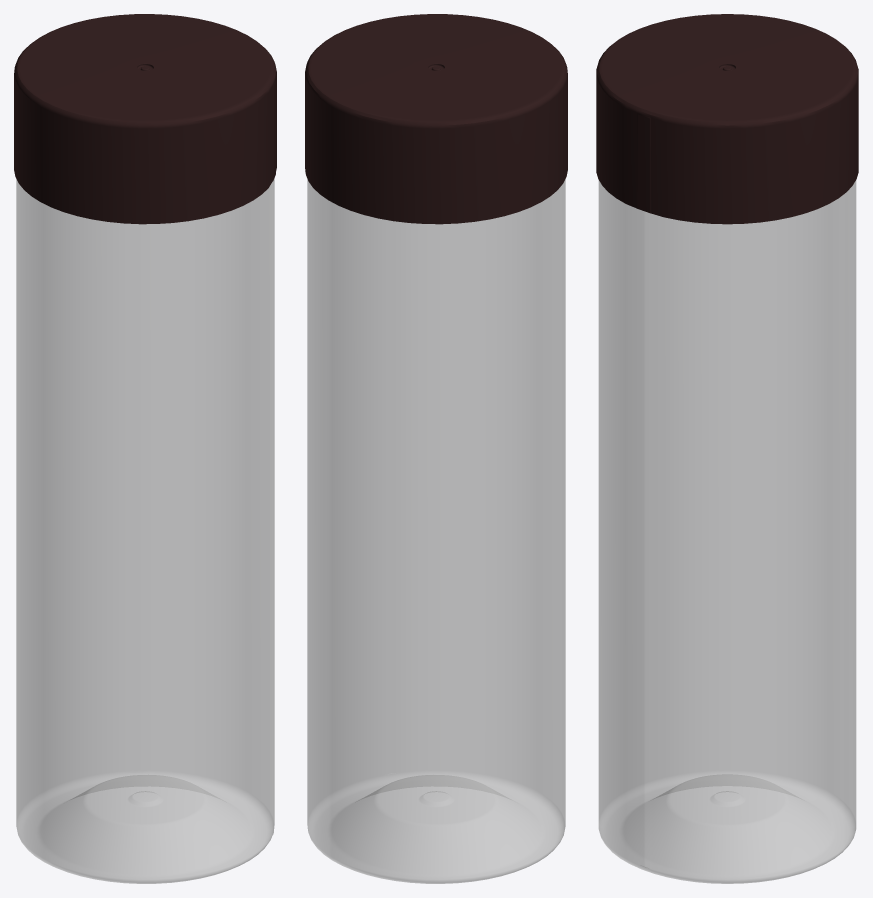
3 renders of one model, left to right at view 1: azimuth 30°, elevation 25°; view 2: azimuth 150°, elevation 25°; view 3: azimuth 270°, elevation 25°, orthographic.
Parts seen in each view (by area): view 1: Object_4, Object_3; view 2: Object_4, Object_3; view 3: Object_4, Object_3.
Boxes of the visible parts, x1=… form: Object_4: x1=16, y1=178, x2=274, y2=883; Object_3: x1=14, y1=14, x2=276, y2=224; Object_4: x1=307, y1=179, x2=565, y2=883; Object_3: x1=305, y1=14, x2=567, y2=224; Object_4: x1=598, y1=180, x2=856, y2=883; Object_3: x1=596, y1=14, x2=858, y2=224.
Bounding box in the file's own units: 1.84 × 5.9 × 1.84.
